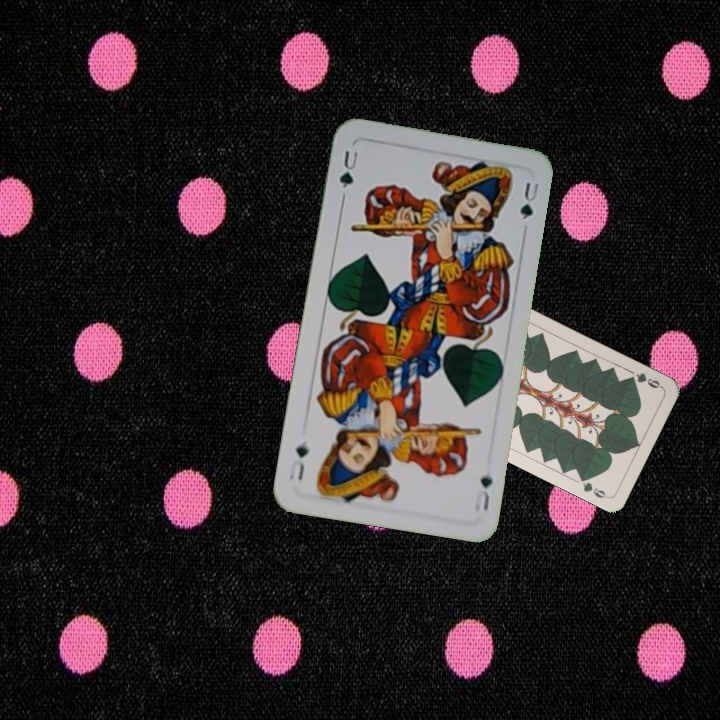G9: (624, 369, 665, 391)
GU: (335, 146, 361, 193), (470, 471, 496, 513)
